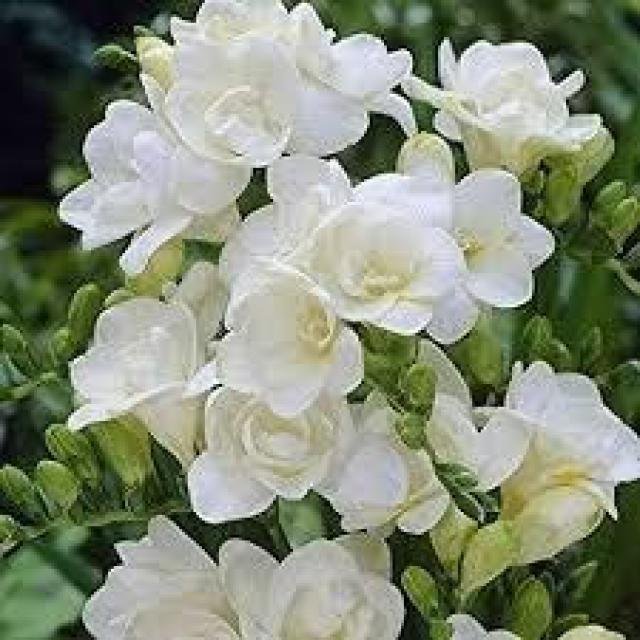freesia: (280, 127, 560, 346), (200, 344, 412, 528), (42, 84, 252, 264), (406, 30, 596, 202), (199, 219, 364, 415), (82, 282, 218, 491), (201, 507, 401, 637), (162, 33, 327, 175), (99, 514, 219, 637)
